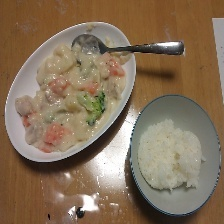rice: (136, 116, 200, 193)
